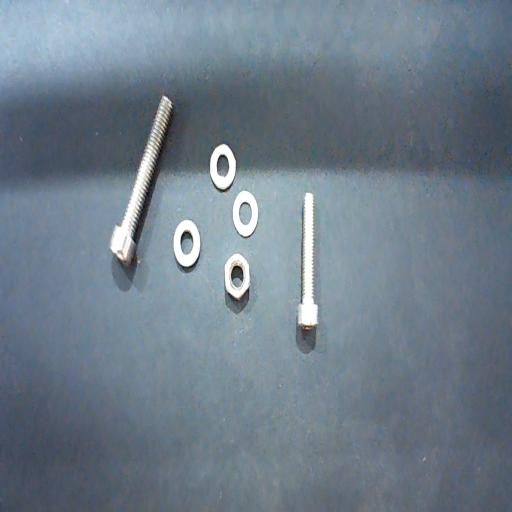nut: (225, 253, 250, 301)
screw: (109, 93, 174, 267), (298, 192, 318, 330)
washer: (174, 218, 200, 274), (232, 190, 259, 238), (210, 144, 236, 192)
